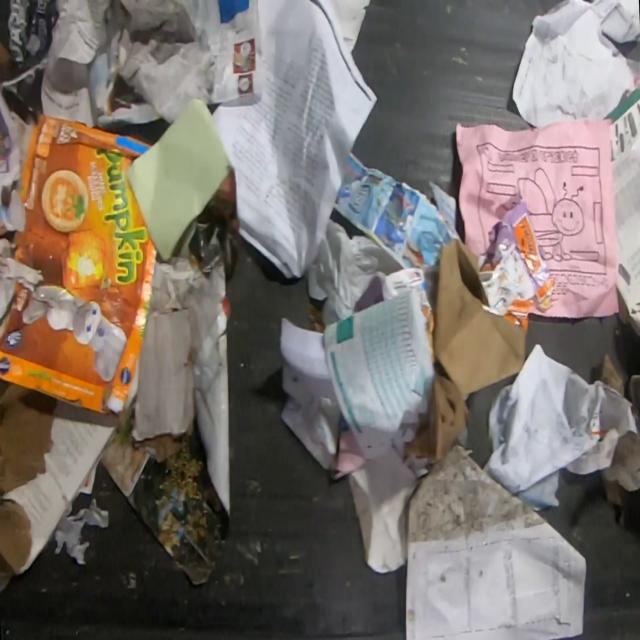cardboard: (0, 109, 158, 416), (0, 378, 119, 594), (432, 236, 526, 395), (129, 306, 196, 464), (478, 196, 558, 328), (601, 470, 634, 531), (596, 350, 625, 397)
soft_plastic: (53, 496, 110, 565)
